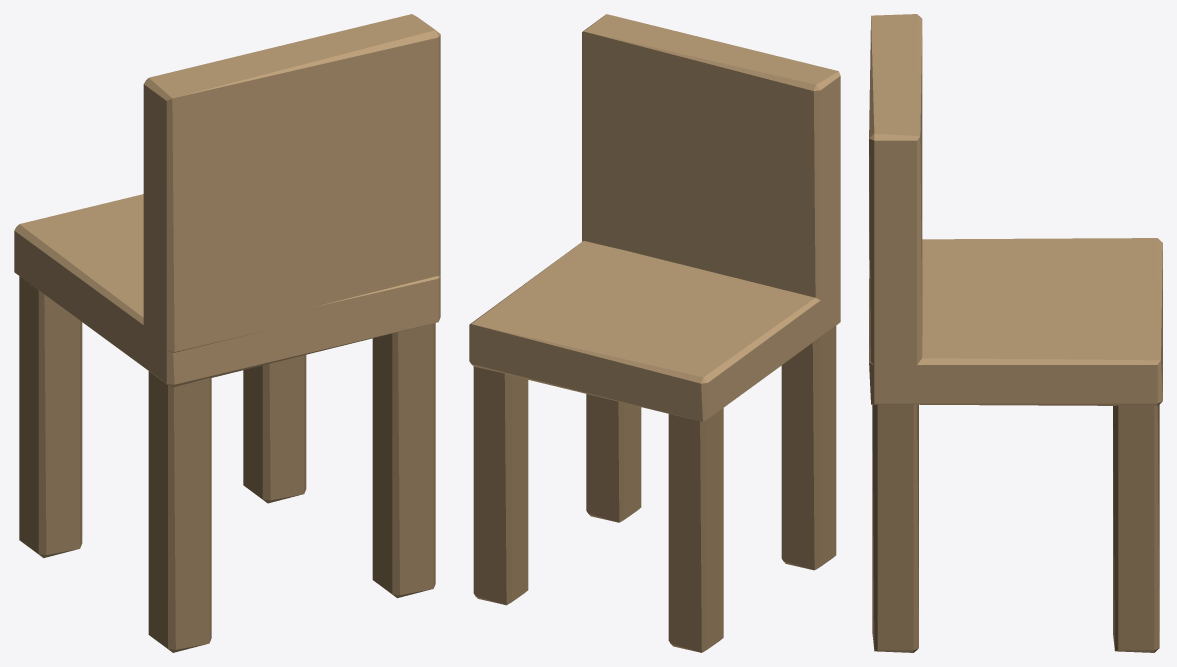
File: dgn_chair.glb
3 renders of one model, left to right at view 1: azimuth 30°, elevation 25°; view 2: azimuth 150°, elevation 25°; view 3: azimuth 270°, elevation 25°, orthographic. The views are drawn at different scales.
Visible parts, largest first — view 1: dgn_chair; view 2: dgn_chair; view 3: dgn_chair.
Part boxes in pixels (x1,y1,x2,y2): dgn_chair: (14, 14, 440, 652); dgn_chair: (469, 14, 840, 652); dgn_chair: (869, 14, 1162, 652).
Bounding box in the file's own units: 0.44 × 0.86 × 0.44.
